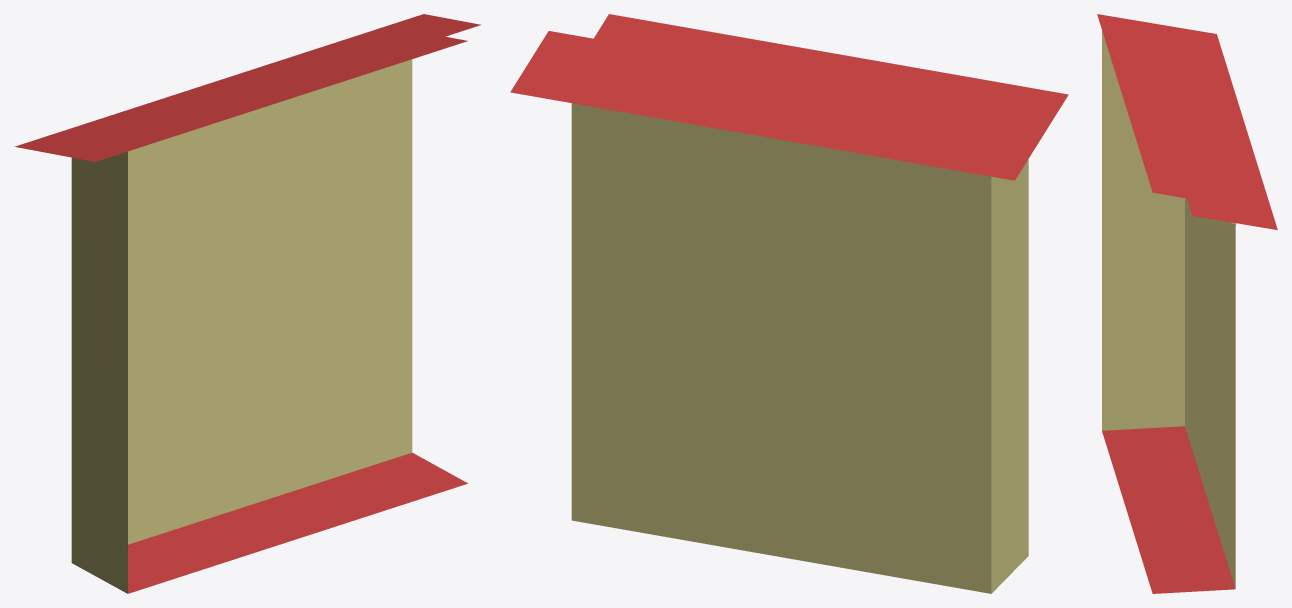
3 views of the same model, side by side, from view 1: azimuth 30°, elevation 25°; view 2: azimuth 150°, elevation 25°; view 3: azimuth 270°, elevation 25° (orthographic). The views are drawn at different scales.
Size of the model in its own units: 9.6 by 3.65 by 8.94.
